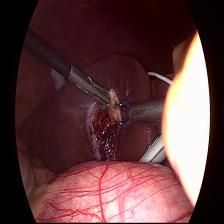Bipolar: (113, 99, 137, 130)
Grasper: (64, 71, 112, 109)
